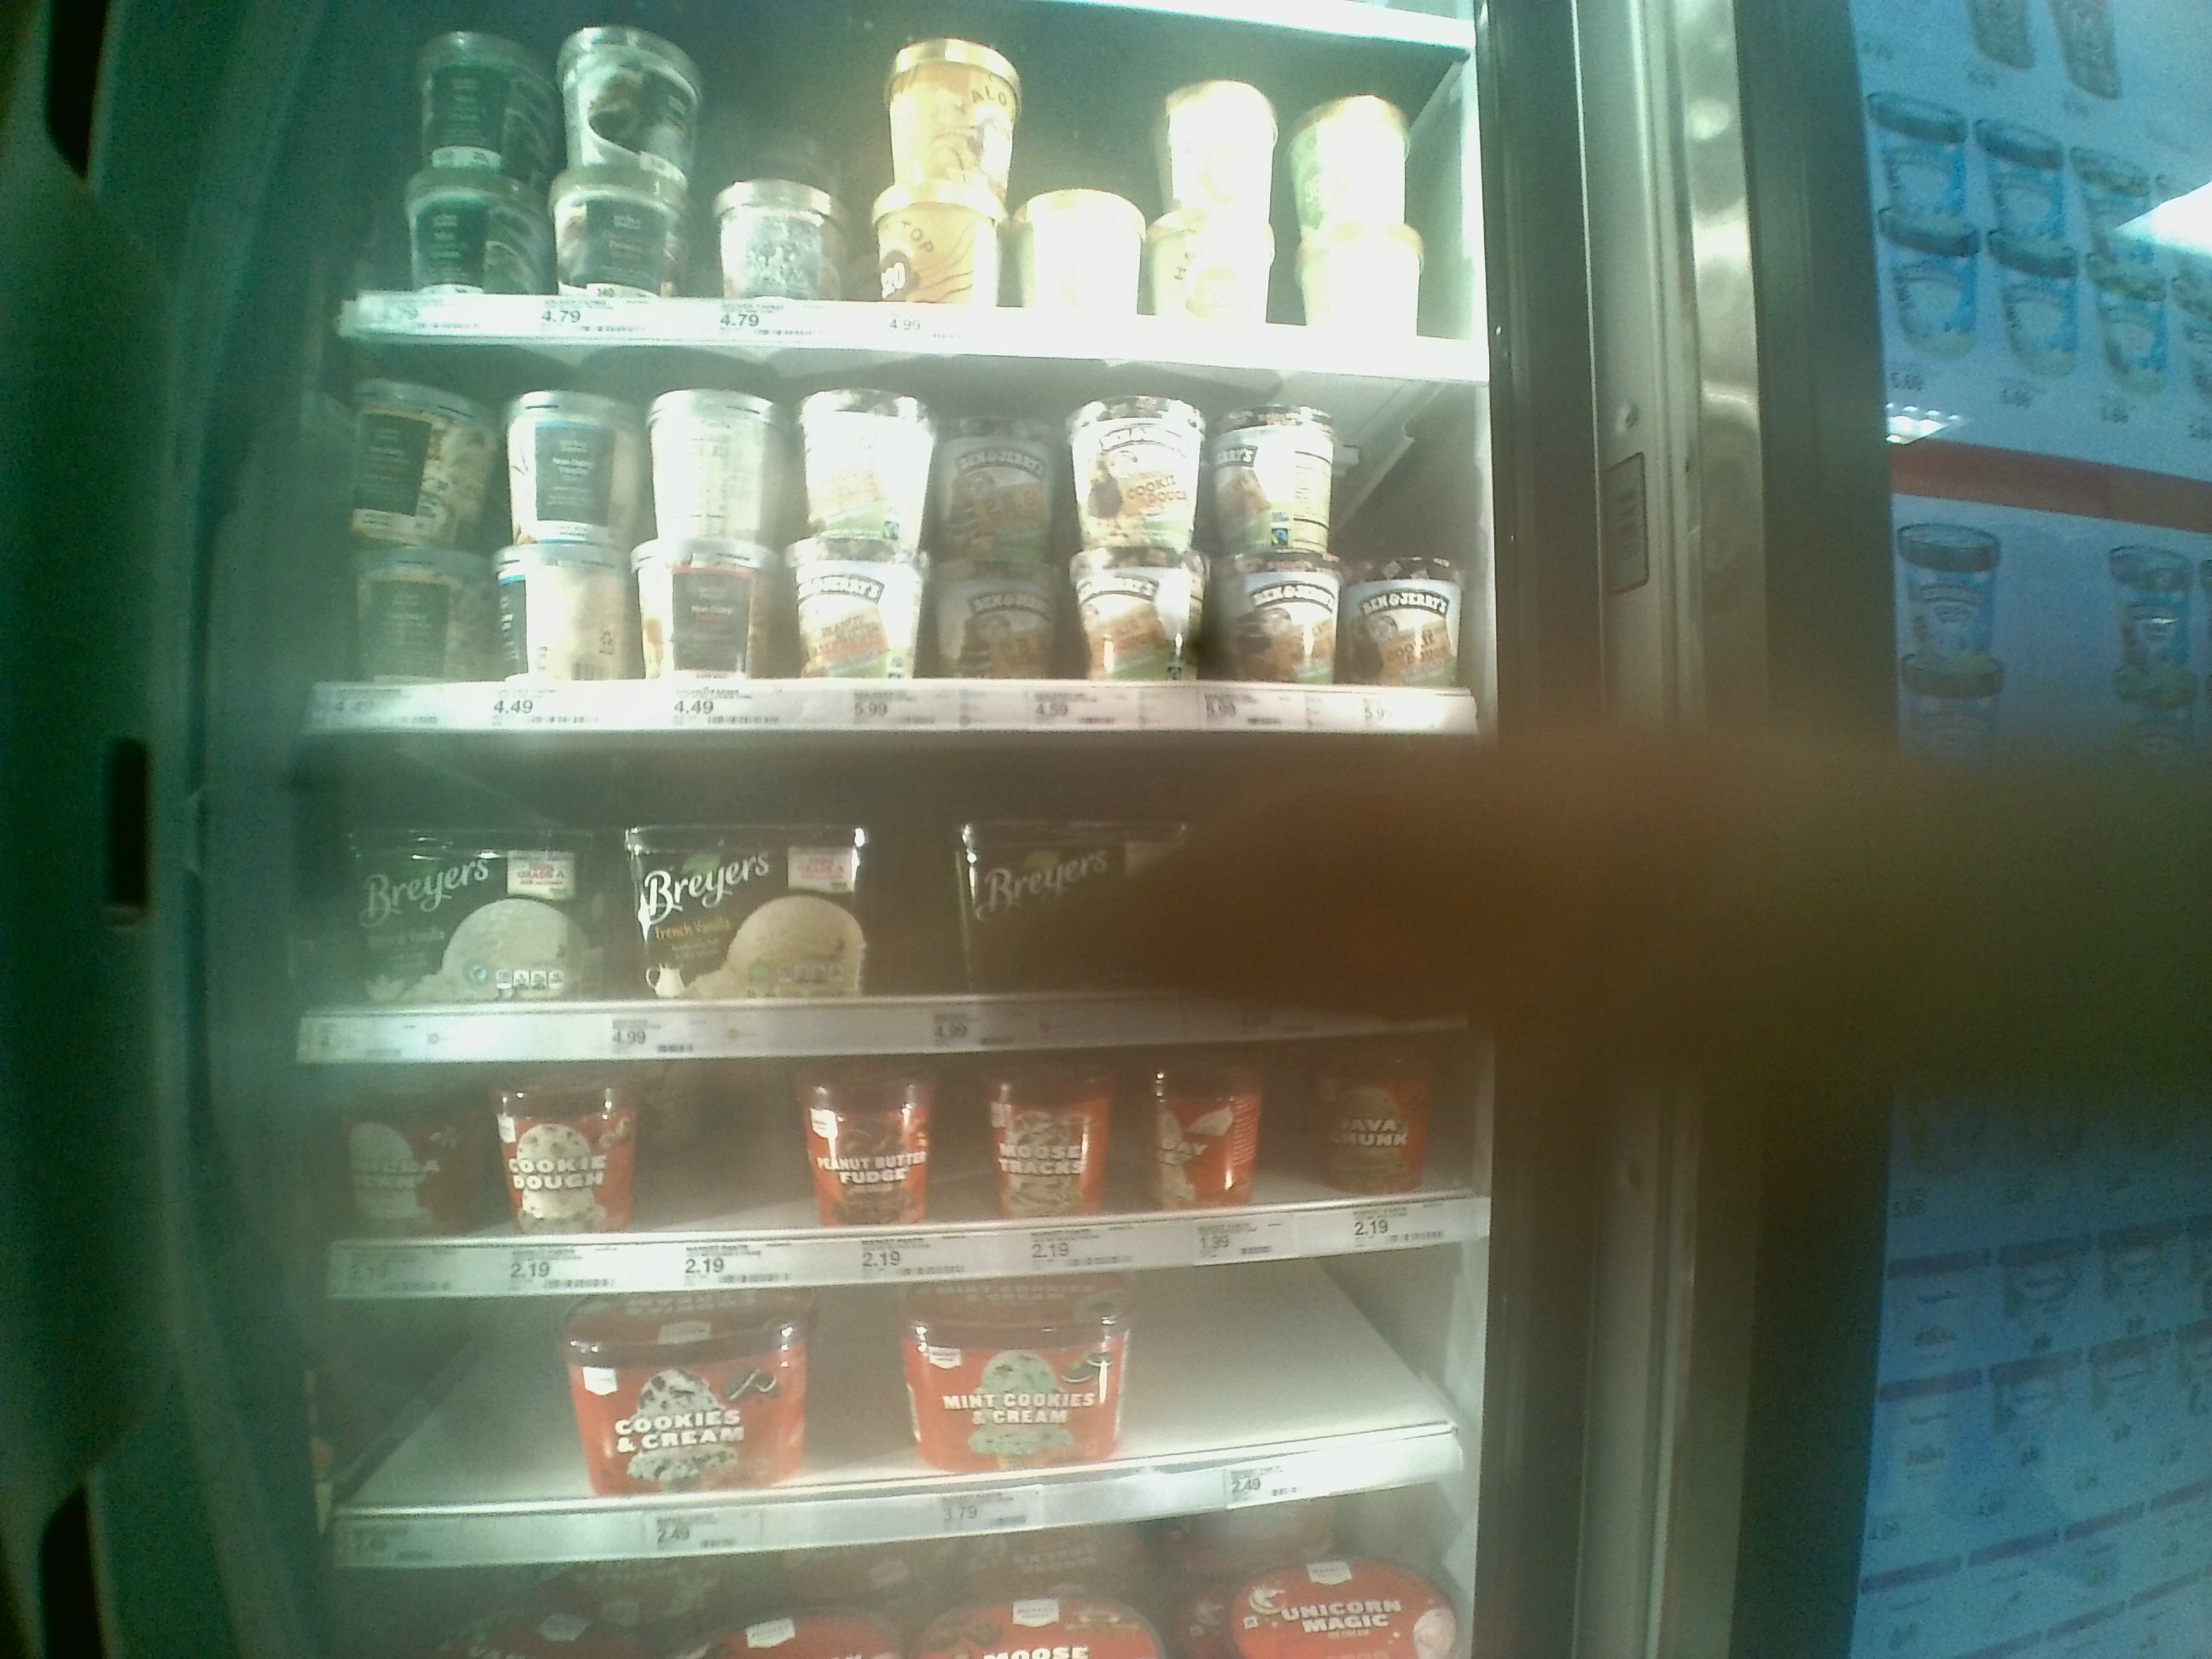shelf: (303, 340, 1480, 732), (357, 1265, 1493, 1549)
